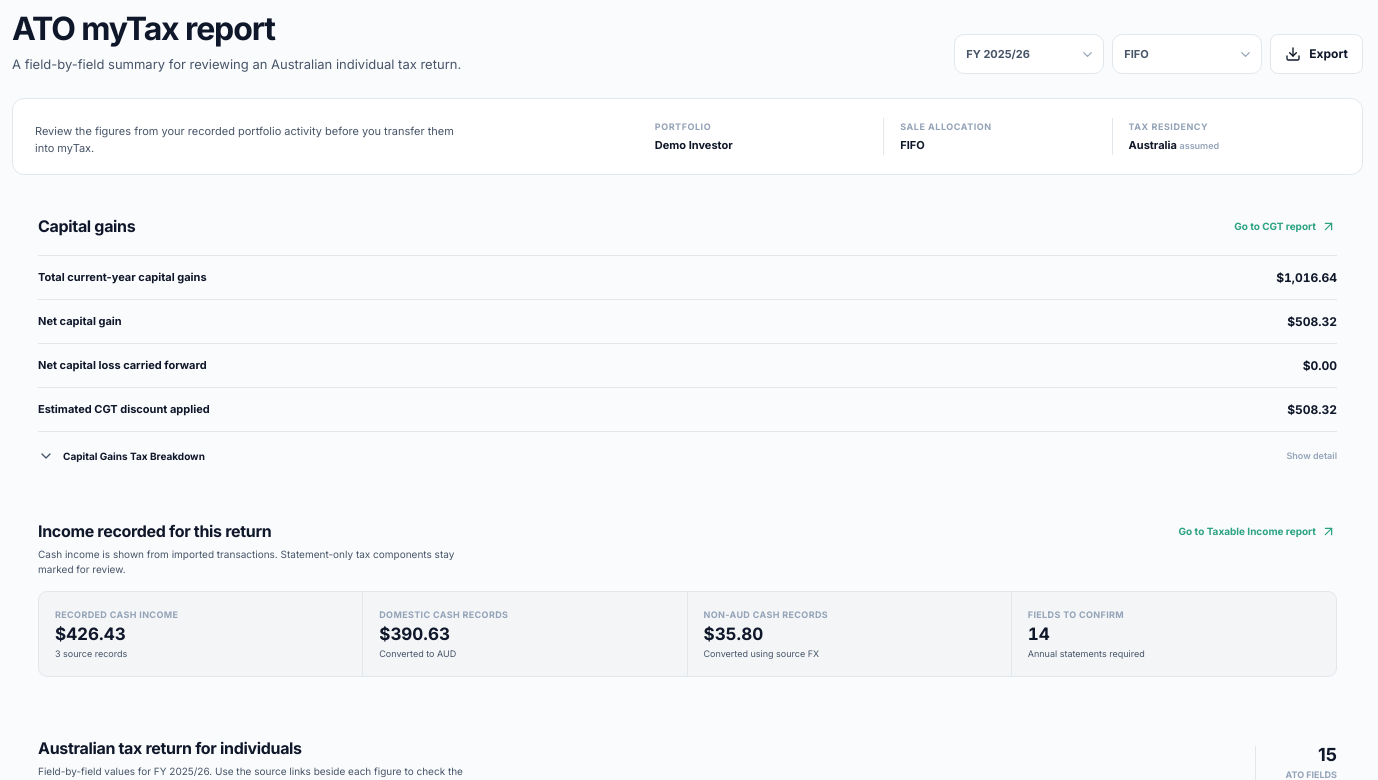
Test case: Navexa-depth workspace routes › matches the tax return flow with an expandable capital breakdown
The width and height of the screenshot is (1378, 780).
Expected: the dropdown named "Financial year" shows "FY 2025/26", [954, 34, 1104, 74]
Click the button "Capital Gains Tax Breakdown Show detail": {"x": 134, "y": 456} [38, 432, 1337, 480]
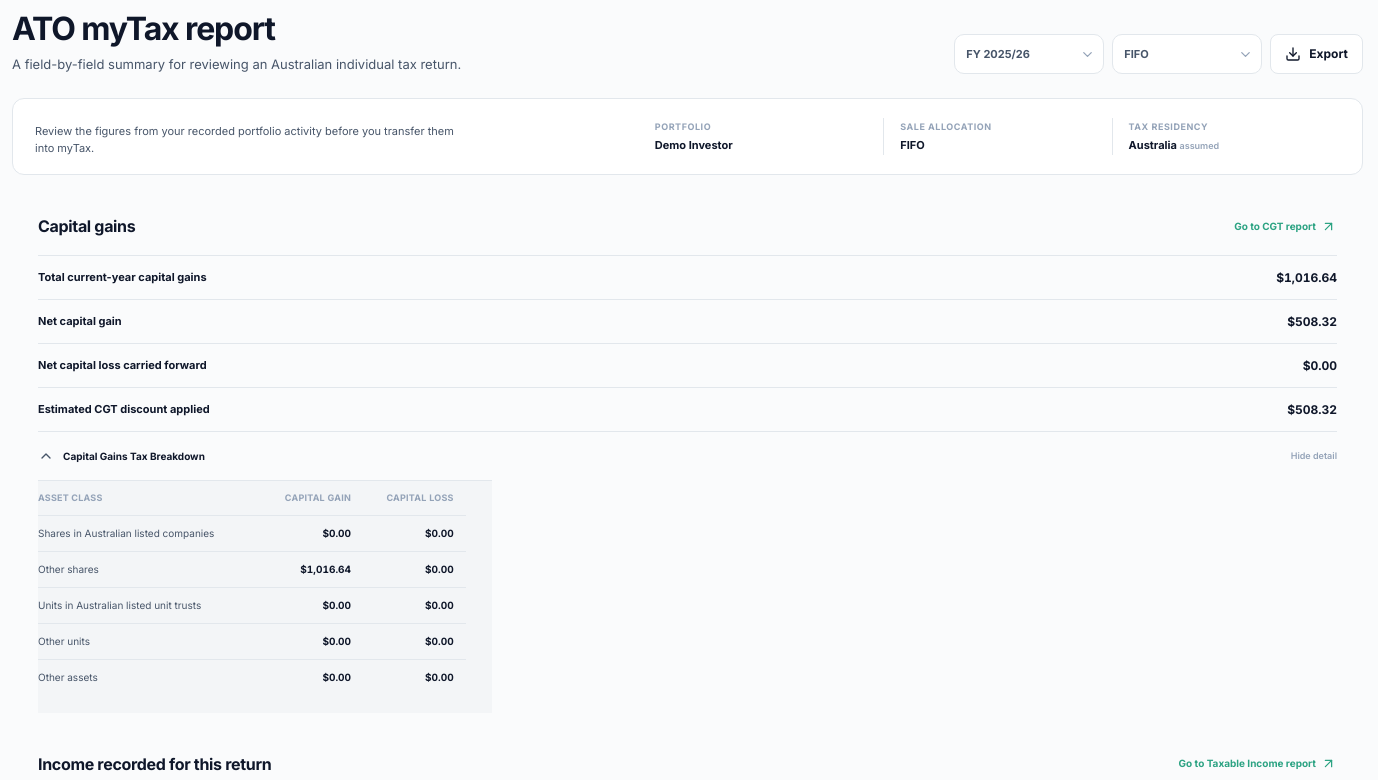
Expected: the button "Export" is shown, [1270, 34, 1363, 74]
Expected: the button "Capital Gains Tax Breakdown Hide detail" is expanded, [38, 432, 1337, 480]
Expected: the text "Shares in Australian listed companies" is shown, [38, 515, 260, 551]
